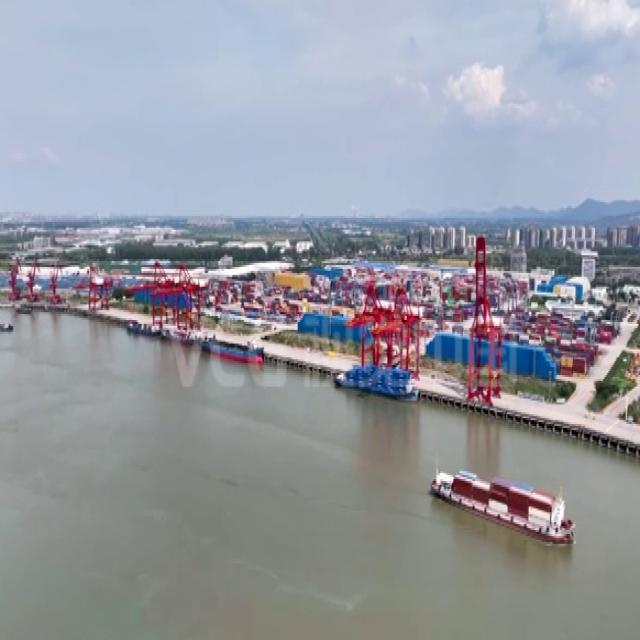cargoship: (430, 462, 578, 548), (337, 358, 419, 403), (202, 330, 268, 374), (0, 318, 13, 332)
